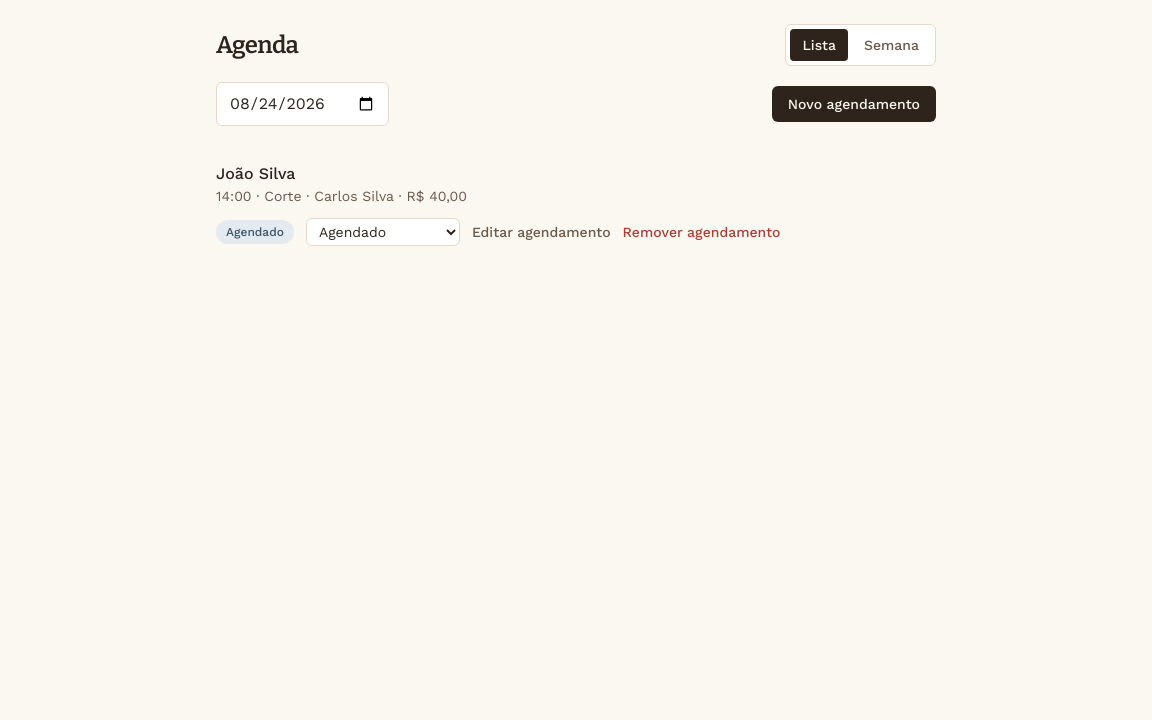
Test: Agenda page › shows a friendly conflict message when creating an appointment on an occupied slot
The width and height of the screenshot is (1152, 720).
Expected: the text "João Silva" is shown, [216,164,295,183]
Click the button "Novo agendamento".
click(854, 104)  # box [772,86,936,122]
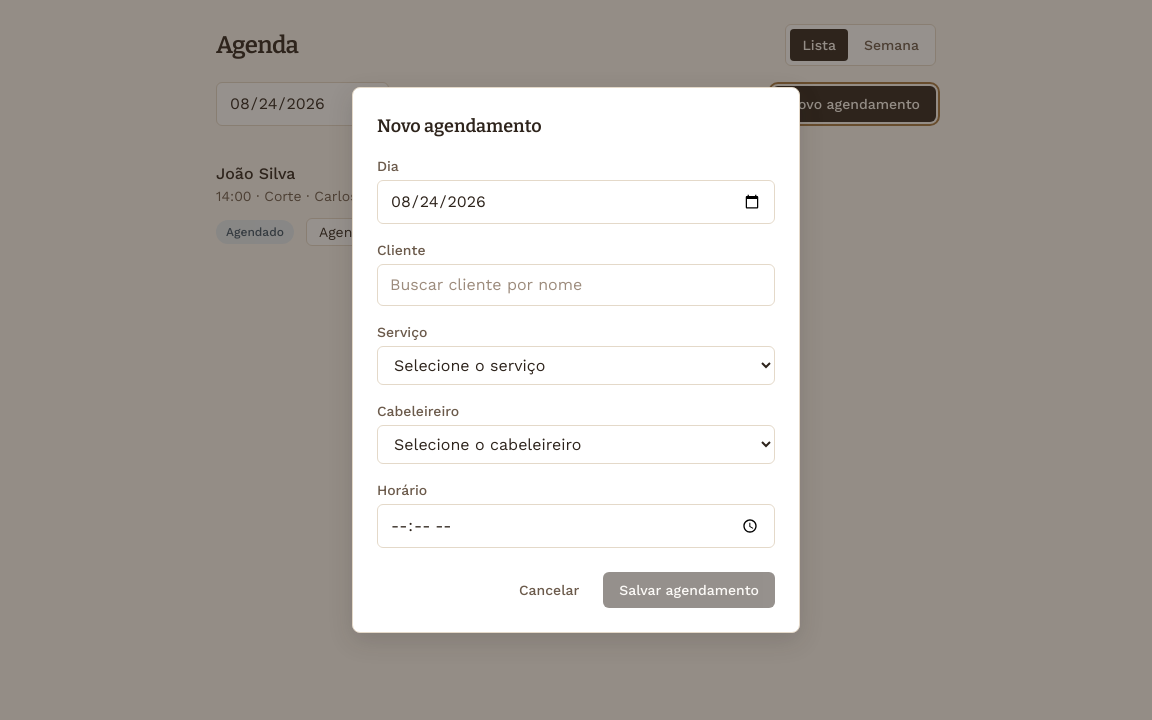
Result: the dialog is shown
